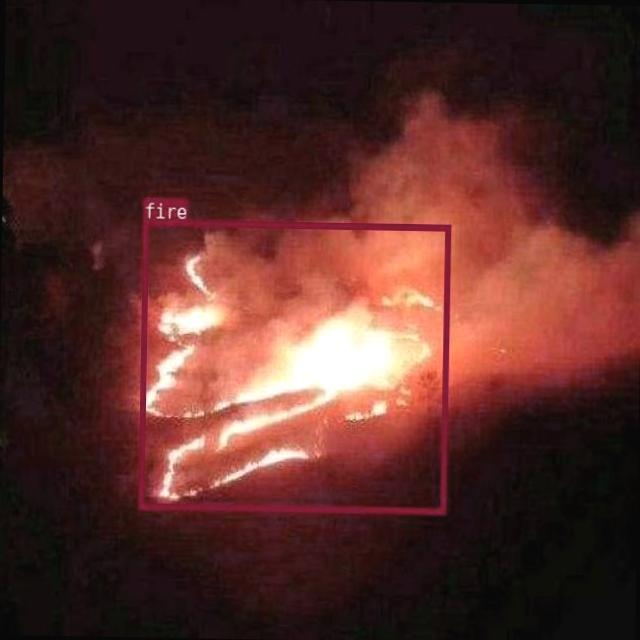fire: (138, 218, 448, 512)
